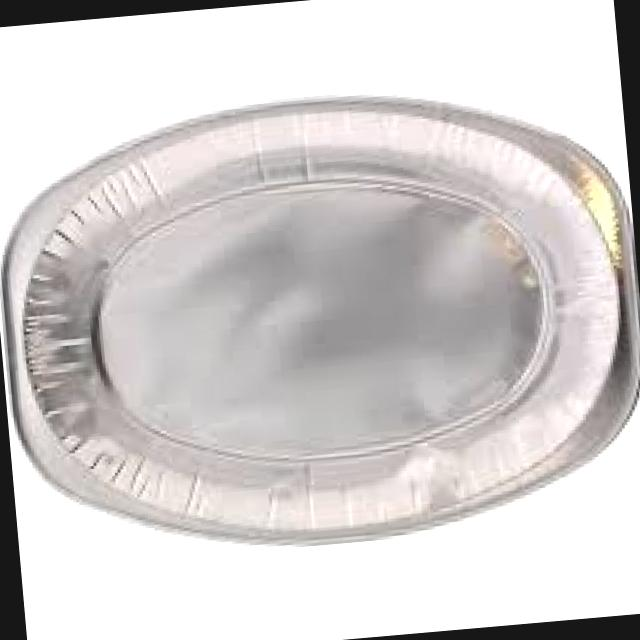kim_loai: (0, 93, 640, 547)
